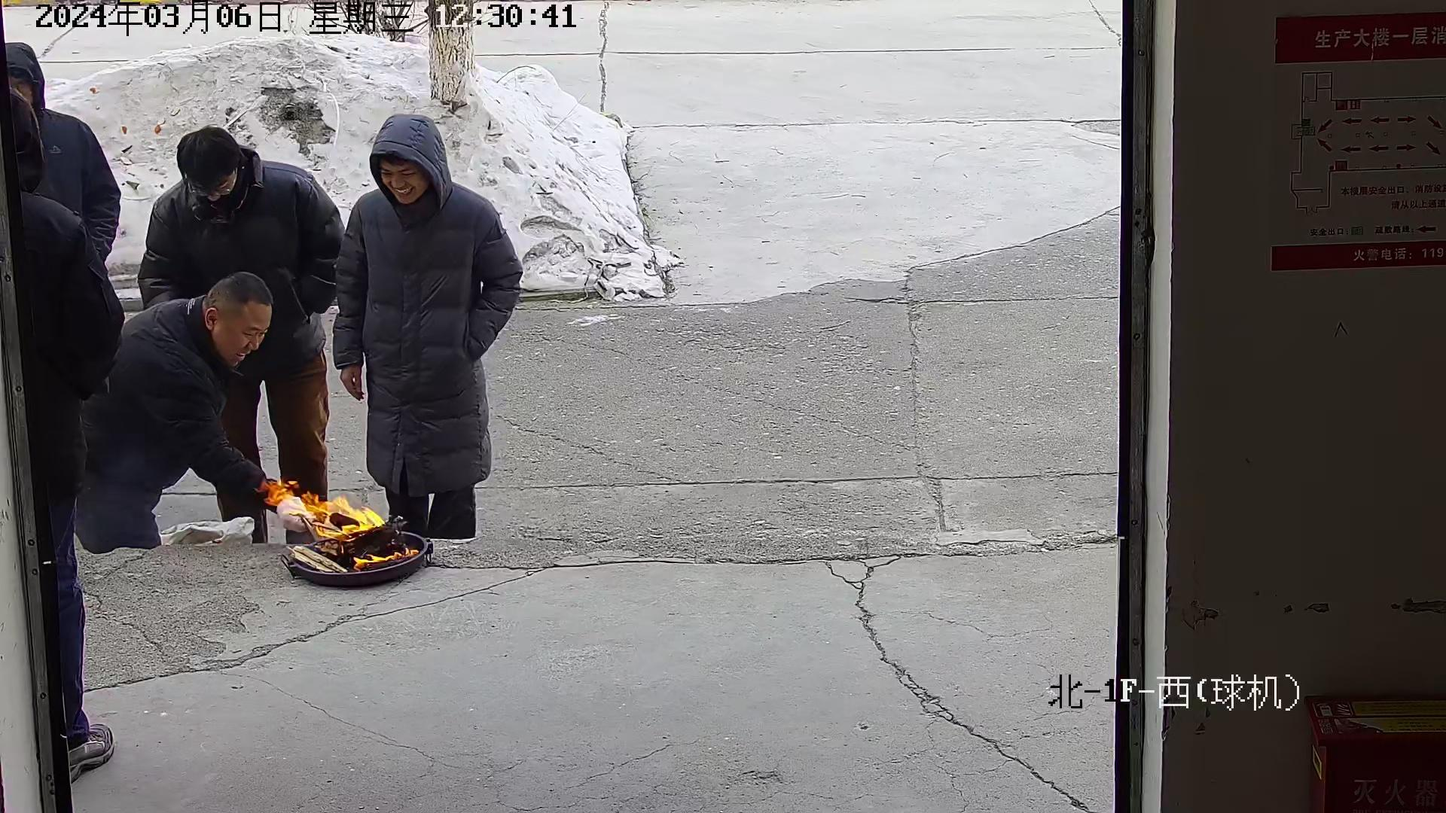fire: (261, 480, 419, 570)
